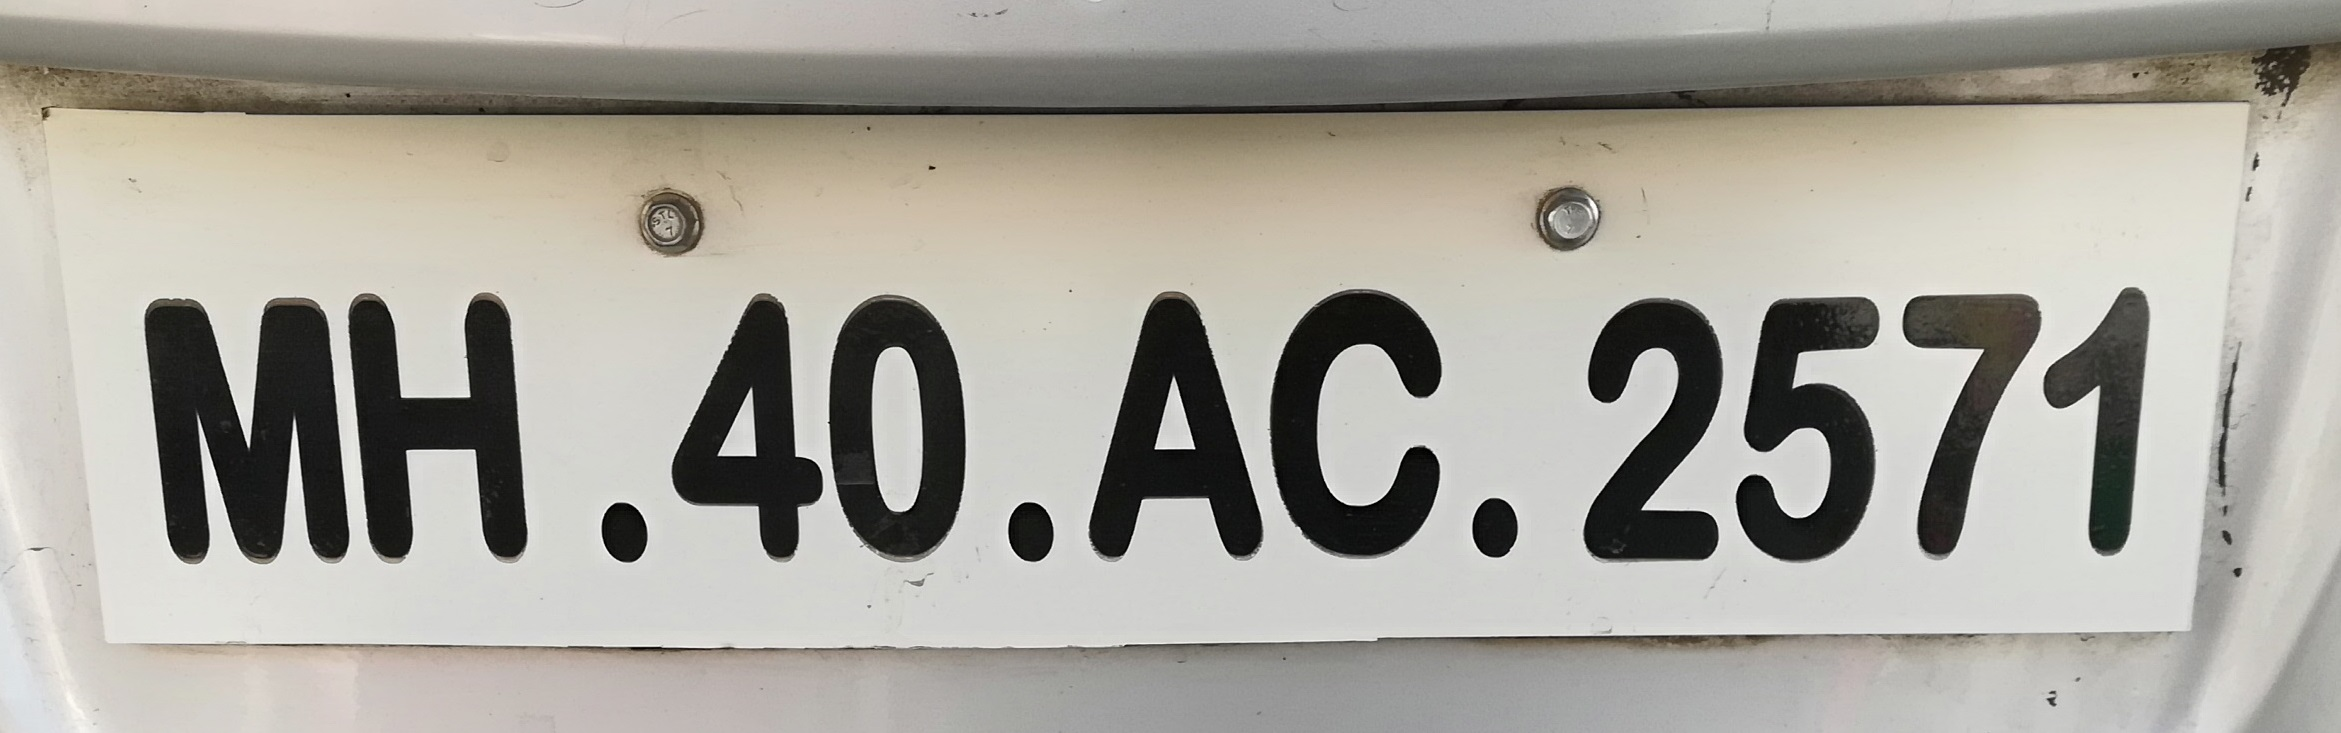numberplate: (34, 93, 2257, 656)
